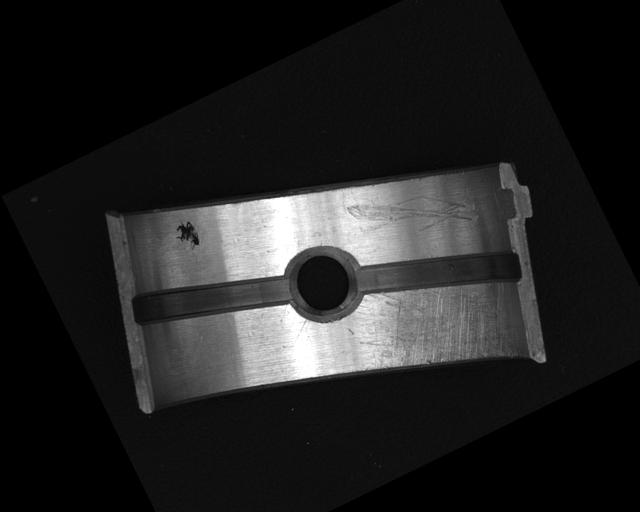blot: (168, 215, 206, 256)
gap: (347, 201, 528, 347), (124, 230, 297, 365)
hole: (277, 237, 365, 326)
nick: (343, 157, 478, 270)
scratch: (338, 236, 531, 417)
